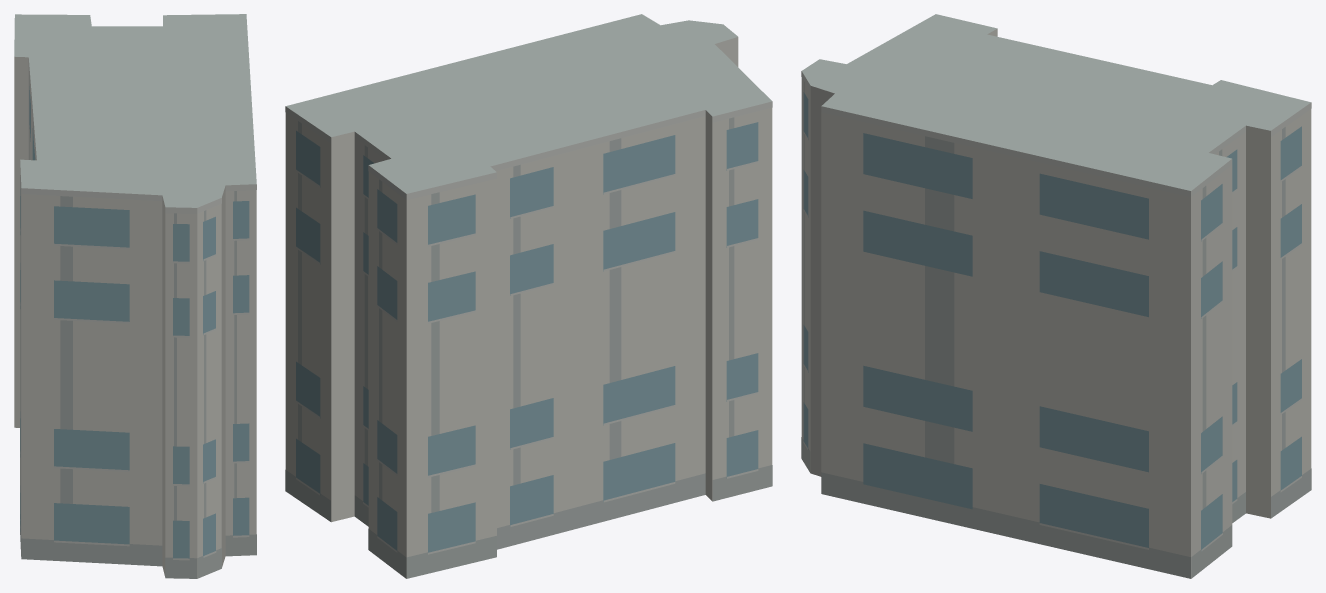
Rendered from survey-upis-32479538.glb.
The picture shows the model from 3 angles, left to right: view 1: azimuth 30°, elevation 25°; view 2: azimuth 150°, elevation 25°; view 3: azimuth 270°, elevation 25°; orthographic projection. The views are drawn at different scales.
Parts seen in each view (by area): view 1: survey-upis-32479538.tmp; view 2: survey-upis-32479538.tmp; view 3: survey-upis-32479538.tmp.
Part boxes in pixels (x1,y1,x2,y2): survey-upis-32479538.tmp: (14, 14, 256, 578); survey-upis-32479538.tmp: (285, 14, 772, 578); survey-upis-32479538.tmp: (801, 14, 1311, 578).
Bounding box in the file's own units: 14.95 × 15.25 × 18.18.
